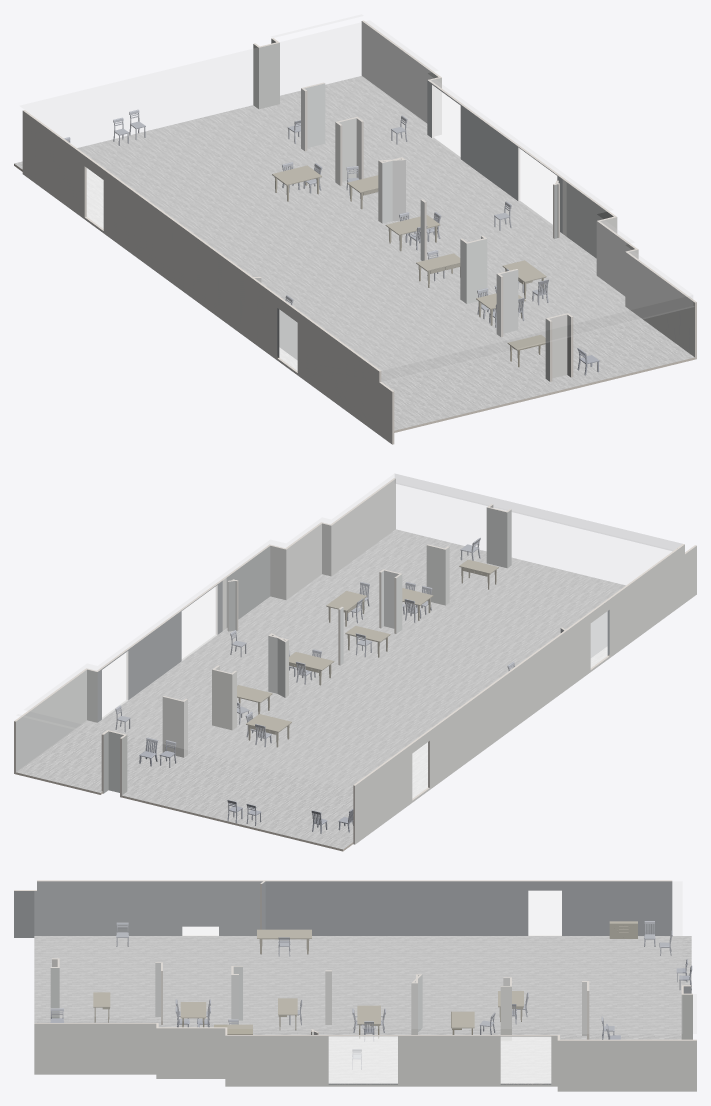
The model's file is johnatanassov.glb.
The picture shows the model from 3 angles, top to bottom: view 1: azimuth 30°, elevation 25°; view 2: azimuth 150°, elevation 25°; view 3: azimuth 270°, elevation 25°; orthographic projection. The views are drawn at different scales.
Parts seen in each view (by area): view 1: ceiling_Dining Room_0 (×4), floor_Dining Room_0 (×2), wall_33, wall_12 (×2), wall_28 (×2), wall_8, wall_32, door_0 (×2), door_3 (×2), door_2 (×2), wall_29, door_1 (×2) (+11 smaller); view 2: ceiling_Dining Room_0 (×4), floor_Dining Room_0 (×2), wall_33, wall_12 (×2), wall_28 (×2), wall_32, door_0 (×2), wall_8, door_3 (×2), wall_29, door_2 (×2), door_1 (×2) (+10 smaller); view 3: ceiling_Dining Room_0 (×3), floor_Dining Room_0, wall_33 (×2), wall_12 (×2), wall_28, wall_32, door_0 (×2), wall_8, door_3 (×2), wall_29, door_1 (×2), table7 (+12 smaller).
Part boxes in pixels (x1,y1,x2,y2): ceiling_Dining Room_0 (×4): [20, 21, 692, 380]; floor_Dining Room_0 (×2): [14, 76, 694, 432]; wall_33: [22, 111, 250, 340]; wall_12 (×2): [251, 278, 392, 444]; wall_28 (×2): [427, 80, 613, 258]; wall_8: [625, 252, 694, 357]; wall_32: [361, 21, 438, 123]; door_0 (×2): [518, 148, 556, 225]; door_3 (×2): [432, 85, 460, 158]; door_2 (×2): [279, 310, 297, 370]; wall_29: [596, 221, 634, 296]; door_1 (×2): [87, 168, 103, 228]; ceiling_Dining Room_0 (×4): [24, 474, 681, 788]; floor_Dining Room_0 (×2): [16, 529, 625, 851]; wall_33: [355, 631, 566, 844]; wall_12 (×2): [566, 544, 696, 689]; wall_28 (×2): [97, 546, 270, 722]; wall_32: [16, 670, 86, 771]; door_0 (×2): [182, 585, 217, 660]; wall_8: [331, 479, 395, 576]; door_3 (×2): [102, 651, 127, 718]; wall_29: [286, 524, 321, 599]; door_2 (×2): [591, 611, 607, 667]; door_1 (×2): [412, 742, 427, 798]; ceiling_Dining Room_0 (×3): [37, 882, 681, 1033]; floor_Dining Room_0: [34, 936, 691, 1083]; wall_33 (×2): [265, 880, 672, 935]; wall_12 (×2): [14, 880, 265, 937]; wall_28: [225, 1035, 557, 1086]; wall_32: [557, 1040, 696, 1091]; door_0 (×2): [329, 1036, 397, 1083]; wall_8: [34, 1023, 156, 1074]; door_3 (×2): [501, 1037, 550, 1083]; wall_29: [156, 1028, 225, 1078]; door_1 (×2): [528, 891, 561, 935]; table7: [257, 929, 311, 954].
Size of the model in its own units: 16.88 by 2.9 by 31.58.
Materials: 110 (1 with a texture image).
